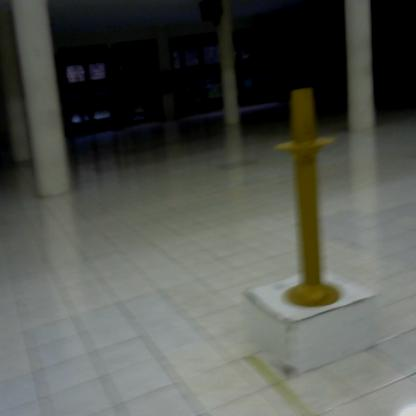pole: (269, 80, 349, 311)
